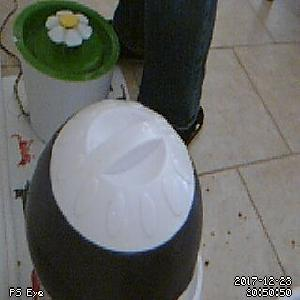fountain: (11, 1, 123, 83)
